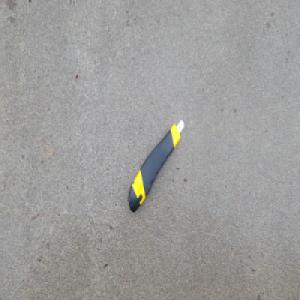Cutter: (127, 117, 185, 213)
